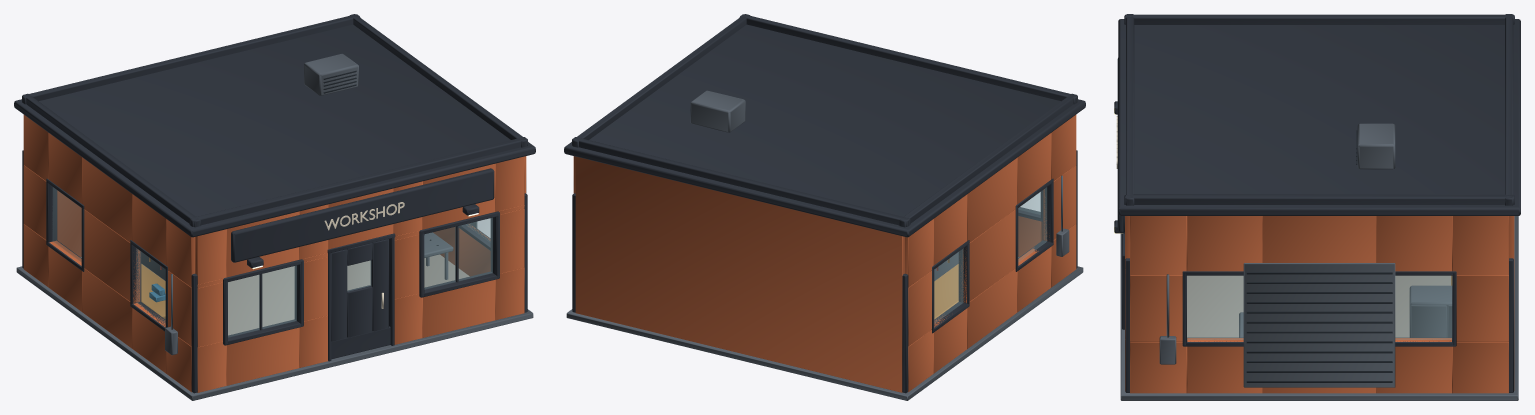
Rendered from workshop.glb.
3 renders of one model, left to right at view 1: azimuth 30°, elevation 25°; view 2: azimuth 150°, elevation 25°; view 3: azimuth 270°, elevation 25°, orthographic. The views are drawn at different scales.
Parts seen in each view (by area): view 1: roof_2_trim, shell_2_wall, shell_2_trim, glass_2_glass, shell_2_floor, shell_2_metal, door_2_trim, roof_2_metal, interior_2_metal.005, interior_2_woodLight.001, door_2_glass, shell_2_ivory; view 2: shell_2_wall, roof_2_trim, shell_2_metal, shell_2_trim, glass_2_glass, roof_2_metal, interior_2_woodLight.001; view 3: roof_2_trim, shell_2_wall, shell_2_metal, glass_2_glass, shell_2_floor, shell_2_dark, shell_2_trim, interior_2_metal.005, roof_2_metal.
Part boxes in pixels (box(x1,y1,x2,y2)): roof_2_trim: box(14, 14, 535, 237); shell_2_wall: box(23, 115, 526, 392); shell_2_trim: box(22, 150, 527, 393); glass_2_glass: box(53, 187, 492, 337); shell_2_floor: box(81, 254, 469, 335); shell_2_metal: box(16, 221, 533, 400); door_2_trim: box(331, 239, 388, 341); roof_2_metal: box(304, 53, 358, 95); interior_2_metal.005: box(141, 232, 453, 280); interior_2_woodLight.001: box(141, 264, 165, 318); door_2_glass: box(347, 260, 371, 291); shell_2_ivory: box(324, 202, 404, 230); shell_2_wall: box(573, 115, 1076, 392); roof_2_trim: box(564, 14, 1085, 237); shell_2_metal: box(566, 175, 1083, 400); shell_2_trim: box(572, 150, 1077, 393); glass_2_glass: box(934, 187, 1046, 323); roof_2_metal: box(690, 90, 745, 132); interior_2_woodLight.001: box(934, 264, 958, 319); roof_2_trim: box(1118, 14, 1520, 215); shell_2_wall: box(1125, 216, 1514, 393); shell_2_metal: box(1120, 216, 1518, 400); glass_2_glass: box(1187, 276, 1451, 339); shell_2_floor: box(1187, 275, 1450, 337); shell_2_dark: box(1246, 272, 1392, 382); shell_2_trim: box(1114, 58, 1513, 392); interior_2_metal.005: box(1239, 285, 1452, 337); roof_2_metal: box(1357, 123, 1395, 169).
Bounding box in the file's own units: 9.58 × 5.09 × 8.59.
